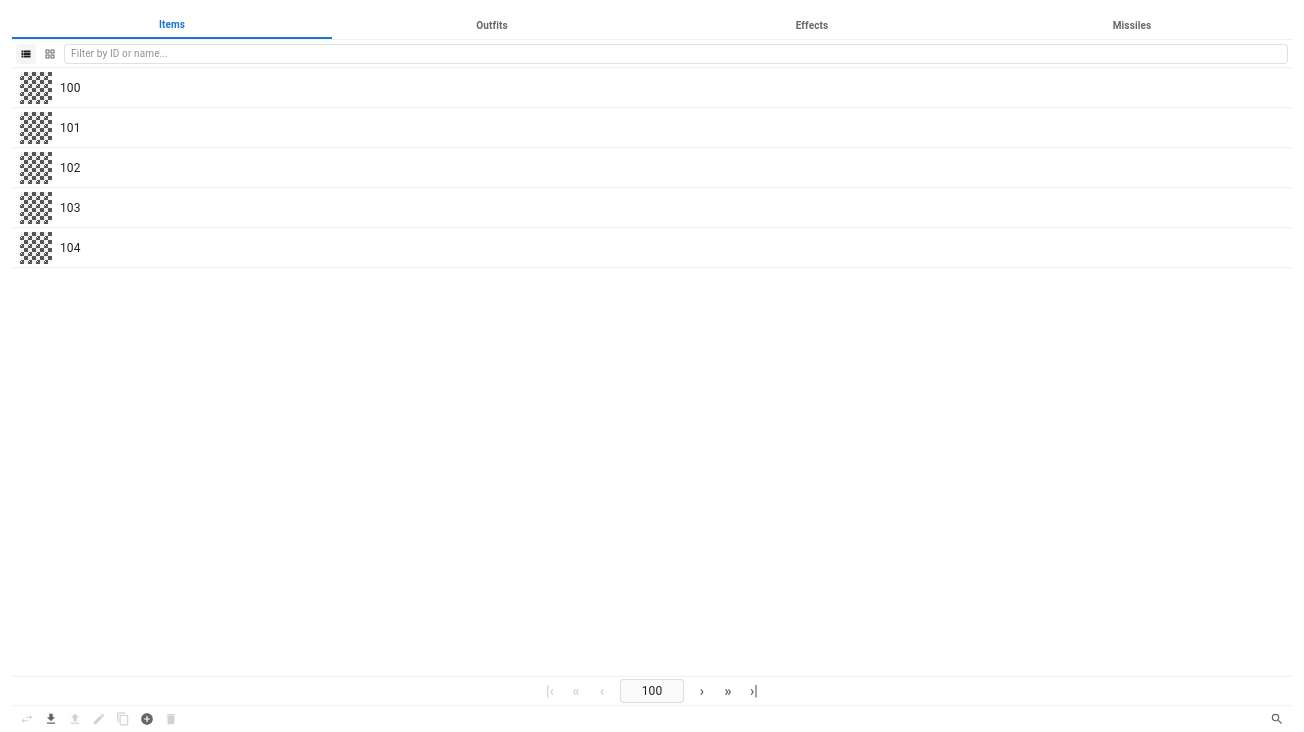
Test: ThingListPanel › view modes › switches back to list view
This screenshot has width=1304, height=732.
Click the button with test id "view-mode-grid" at (50, 54), box 40,44 -> 60,64
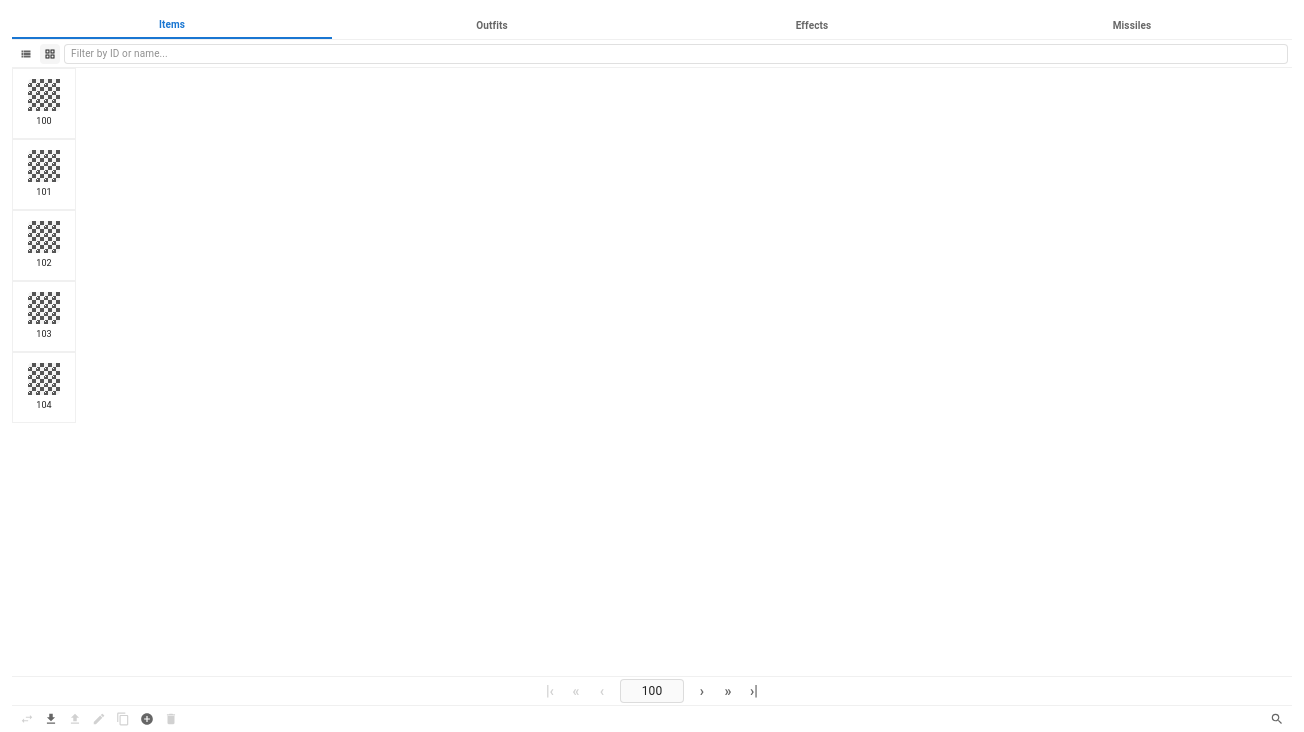
Click the button with test id "view-mode-list" at (26, 54), box 16,44 -> 36,64
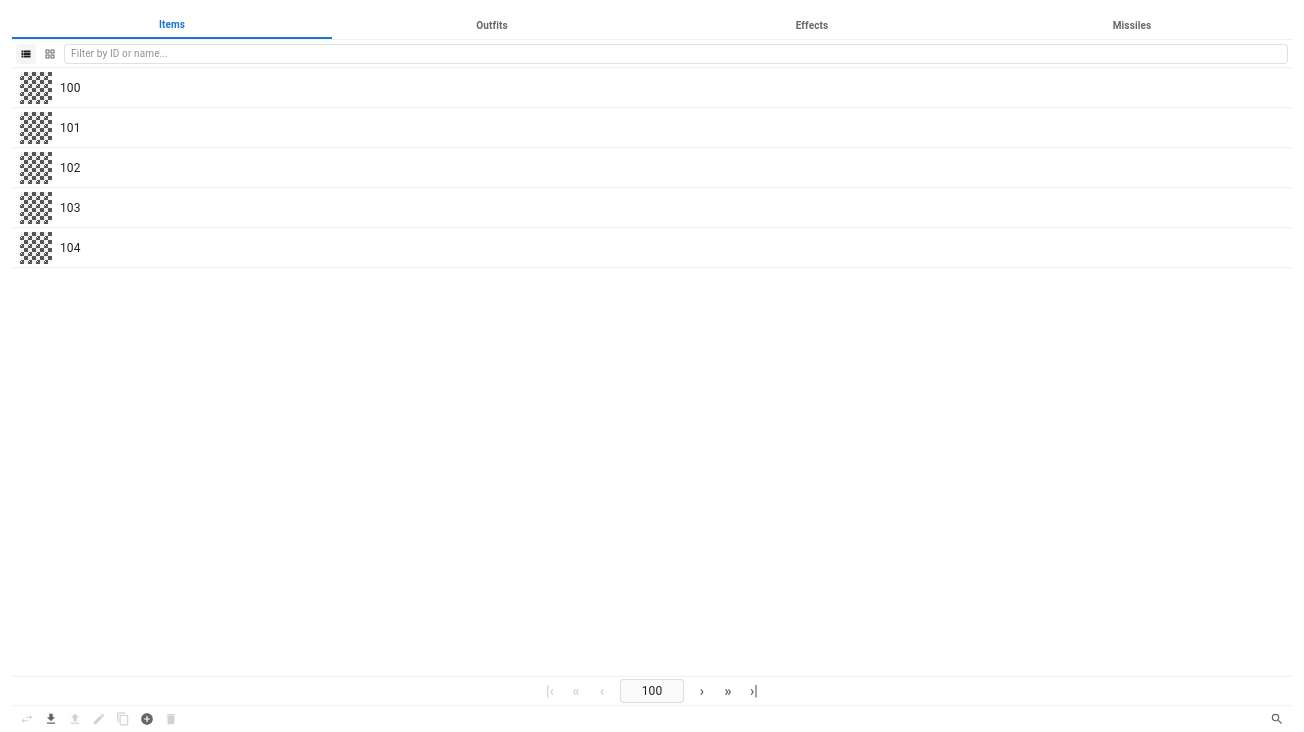
Check: the element with test id "thing-list-item-100" is shown, box 12,68 -> 1292,108
